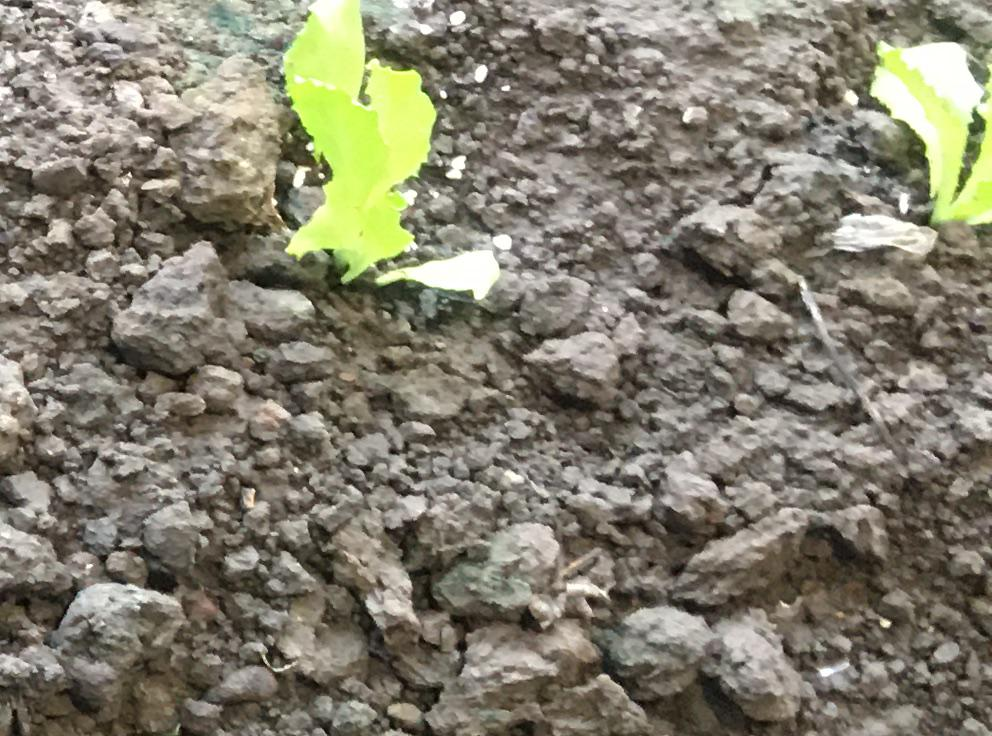block: (601, 599, 805, 726), (104, 237, 242, 375), (44, 584, 183, 708)
